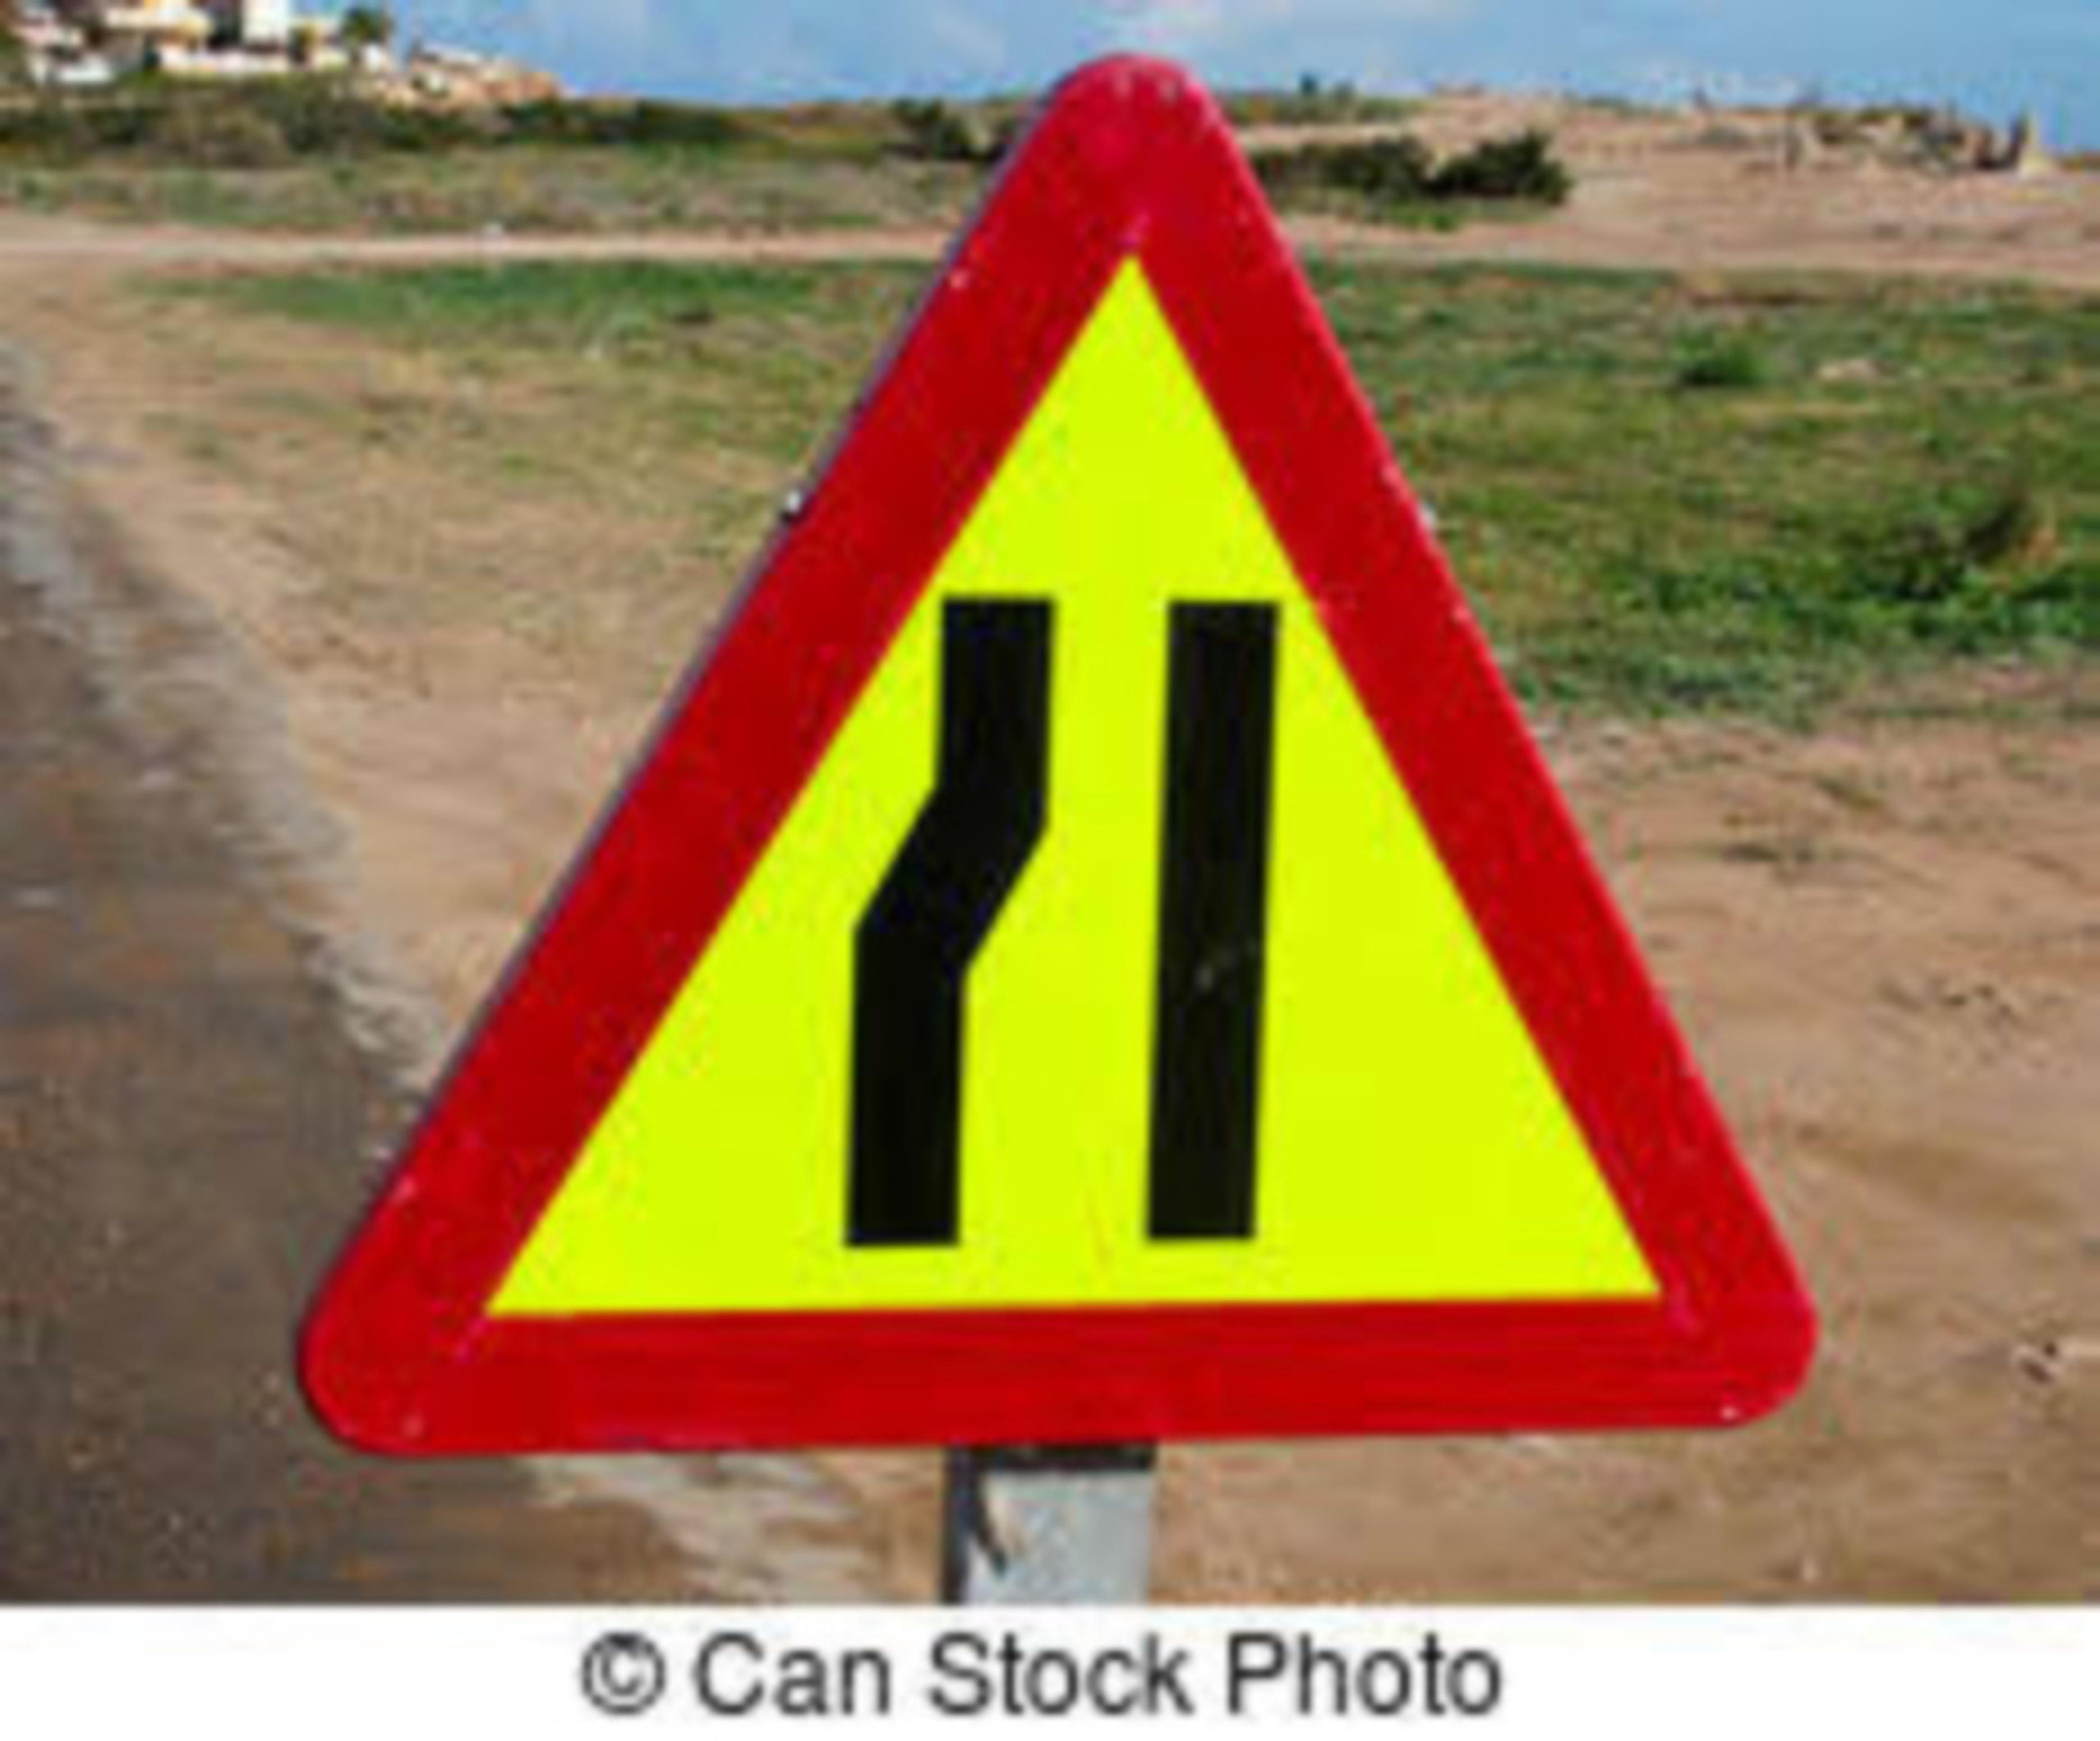narrow_road: (220, 38, 1877, 1450)
